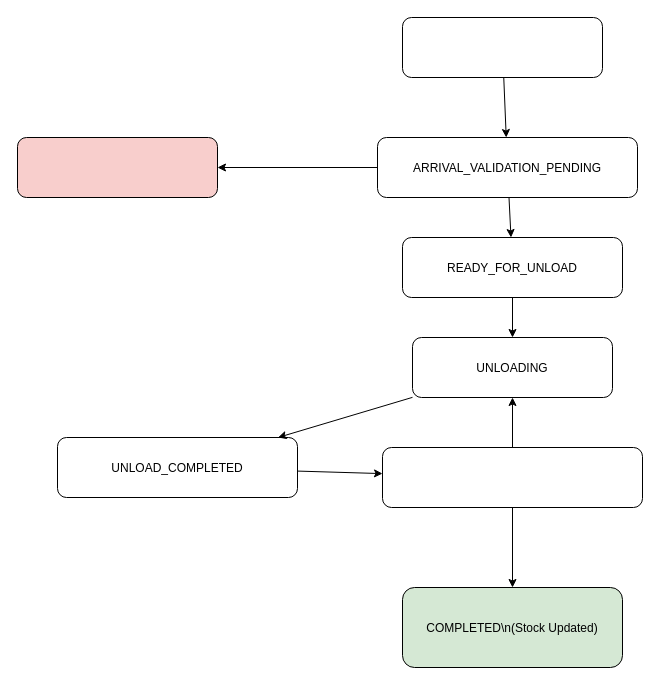
The diagram is 660 pixels wide and 685 high, and some of its shapes have lost their labels. The centre of each missing label's shape, as x and y in pixels:
"ARRIVED" goes at point (502, 47).
"CANCELLED" goes at point (117, 167).
"TARE_VALIDATION_PENDING" goes at point (512, 477).
